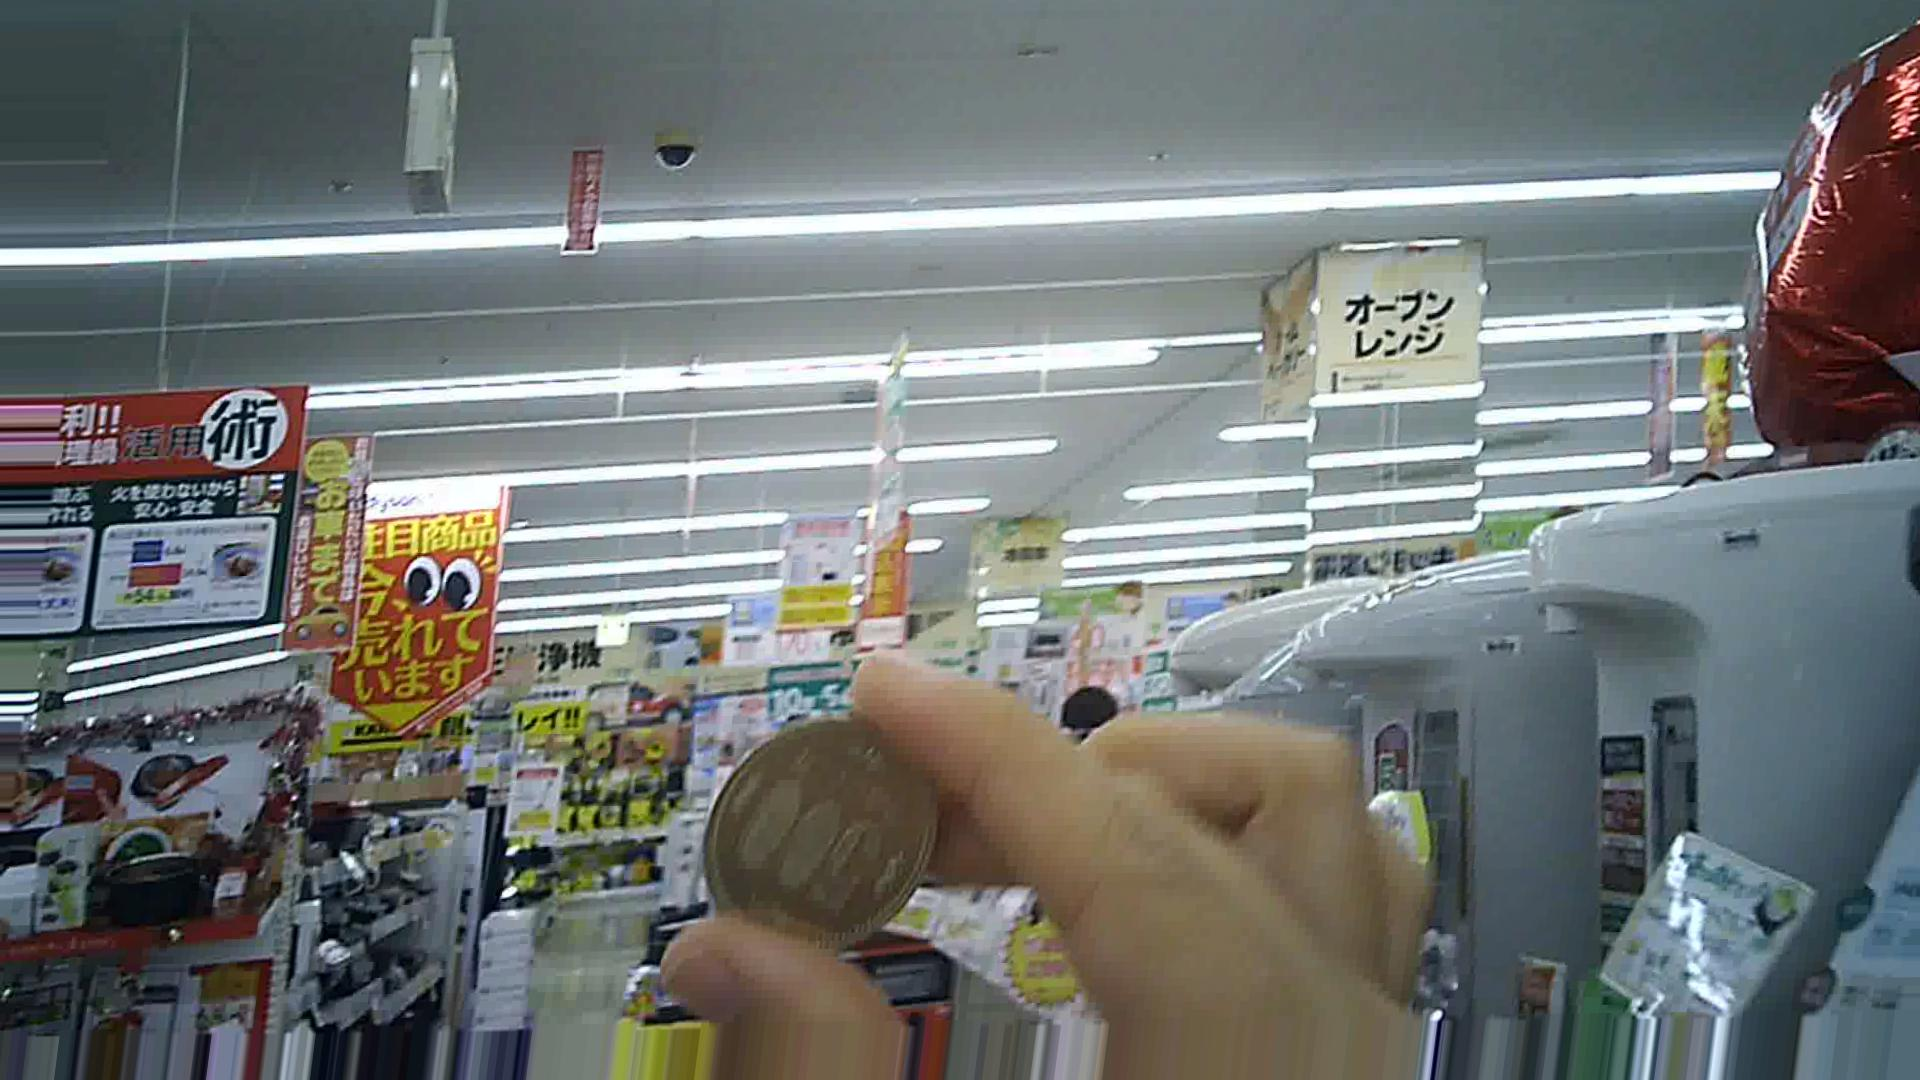500 Yen: (705, 707, 961, 975)
